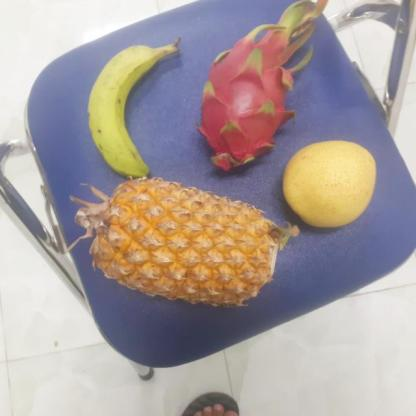banana: (84, 43, 177, 174)
pear: (276, 140, 377, 228)
pineapple: (83, 176, 282, 304)
pitaya: (192, 38, 299, 170)
